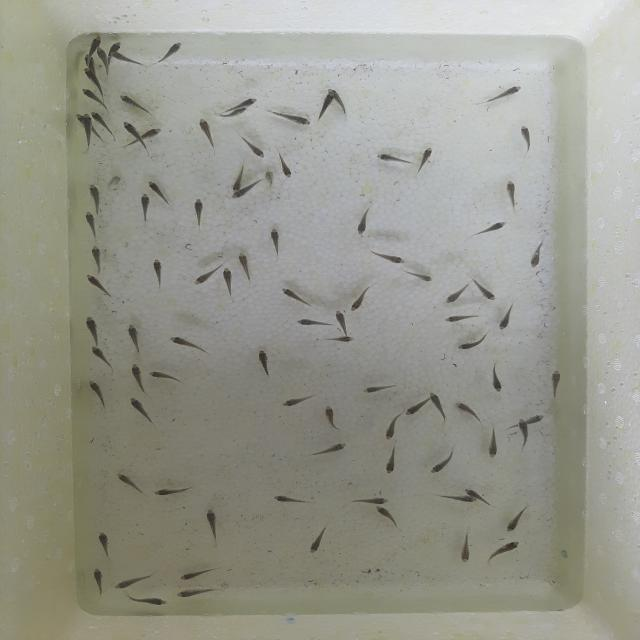fingerling: (484, 83, 525, 106), (484, 539, 524, 561), (113, 471, 148, 496), (265, 109, 312, 127), (148, 179, 172, 213), (170, 335, 210, 355), (506, 505, 532, 535), (80, 212, 106, 241), (128, 398, 158, 423), (427, 449, 456, 474), (455, 533, 476, 567), (83, 273, 114, 296), (95, 524, 115, 559), (374, 505, 403, 529), (453, 400, 481, 424), (381, 445, 402, 477), (372, 248, 407, 267), (159, 39, 185, 64), (93, 111, 118, 137), (90, 346, 116, 371), (84, 380, 109, 406), (242, 135, 269, 159), (312, 441, 348, 459), (114, 574, 150, 592), (123, 322, 146, 350), (271, 494, 317, 508), (110, 50, 142, 70), (374, 150, 414, 166), (119, 93, 148, 115), (148, 257, 166, 292), (126, 361, 146, 392), (517, 122, 535, 156), (220, 264, 238, 298), (308, 526, 331, 552), (474, 220, 508, 237), (502, 180, 520, 212), (267, 227, 285, 259), (90, 567, 108, 599), (350, 286, 372, 312), (429, 494, 476, 506), (189, 197, 206, 230), (429, 390, 446, 423), (330, 87, 350, 115), (82, 316, 102, 344), (277, 394, 317, 408), (177, 566, 217, 580), (196, 116, 214, 146), (380, 416, 400, 443), (77, 88, 105, 107), (175, 587, 219, 599), (237, 252, 254, 283), (322, 404, 342, 430), (416, 146, 435, 173), (281, 286, 308, 305), (86, 182, 103, 212), (528, 241, 545, 271), (80, 38, 98, 66), (354, 209, 372, 237), (487, 423, 501, 459), (205, 506, 219, 542), (256, 349, 276, 374), (443, 286, 469, 305), (148, 370, 182, 384), (80, 67, 106, 85), (134, 597, 170, 610), (343, 494, 389, 504), (139, 193, 156, 220), (457, 336, 487, 351), (191, 268, 219, 284), (403, 400, 429, 417), (476, 280, 496, 302), (333, 310, 352, 333), (278, 154, 294, 181), (408, 269, 435, 285), (361, 384, 397, 396), (294, 318, 331, 329), (88, 245, 103, 272), (517, 418, 530, 449), (442, 314, 482, 324), (152, 487, 195, 496), (491, 362, 503, 393), (318, 91, 334, 114), (498, 306, 513, 330), (81, 114, 92, 146), (231, 165, 244, 191), (95, 48, 109, 72), (551, 370, 561, 402), (322, 335, 357, 344), (261, 170, 278, 188), (221, 107, 246, 119), (123, 120, 139, 138), (141, 128, 164, 140), (235, 97, 260, 106), (229, 190, 249, 200), (526, 414, 546, 424), (111, 41, 125, 53), (460, 488, 480, 495)
